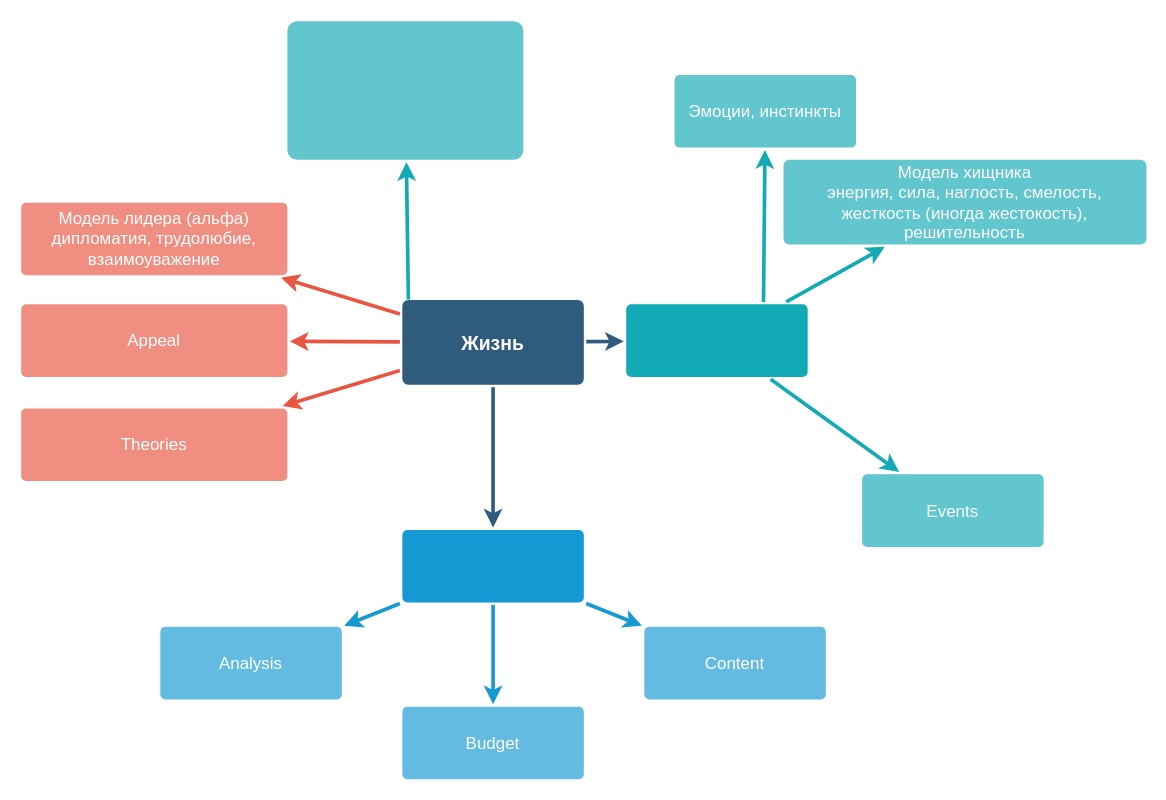
The diagram is 1166 pixels wide and 800 high, and some of its shapes have lost their labels. Here are the shapes that lost their labels. From the top down, the centre of each, then its label:
point 405,90: Логика, дипломатия, иерархия, взаимоуважение, взаимовыгода, здравый смысл
point 716,340: Отношения с жен
point 492,565: Organization
